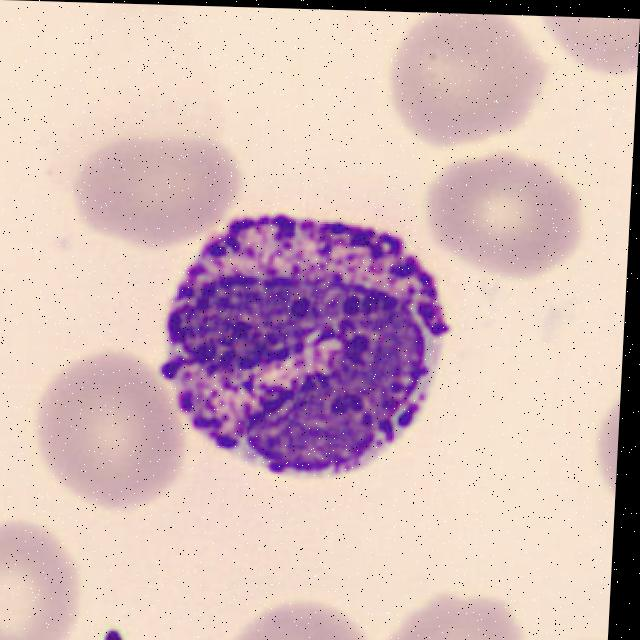basophil: (154, 208, 455, 481)
rbc: (46, 112, 254, 263), (417, 142, 595, 281), (379, 12, 550, 154), (29, 349, 187, 488), (206, 563, 381, 640), (0, 502, 91, 640), (382, 564, 540, 640), (526, 16, 640, 82), (591, 373, 622, 510), (522, 619, 608, 640)
